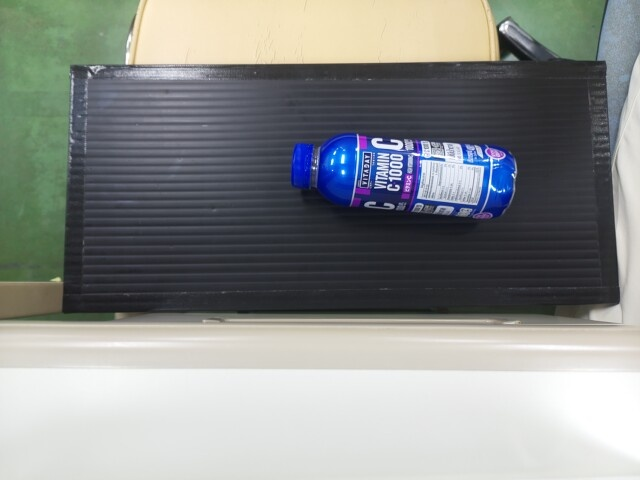plastic_bottle: (292, 133, 516, 220)
